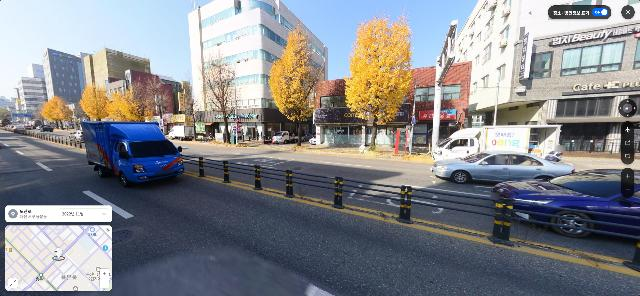ginkgo: (342, 9, 415, 152), (268, 23, 320, 147), (196, 48, 244, 144), (104, 91, 148, 122), (77, 84, 111, 122), (45, 95, 69, 130), (40, 103, 51, 125)
other: (127, 70, 163, 122), (180, 72, 196, 127), (154, 81, 175, 120)
